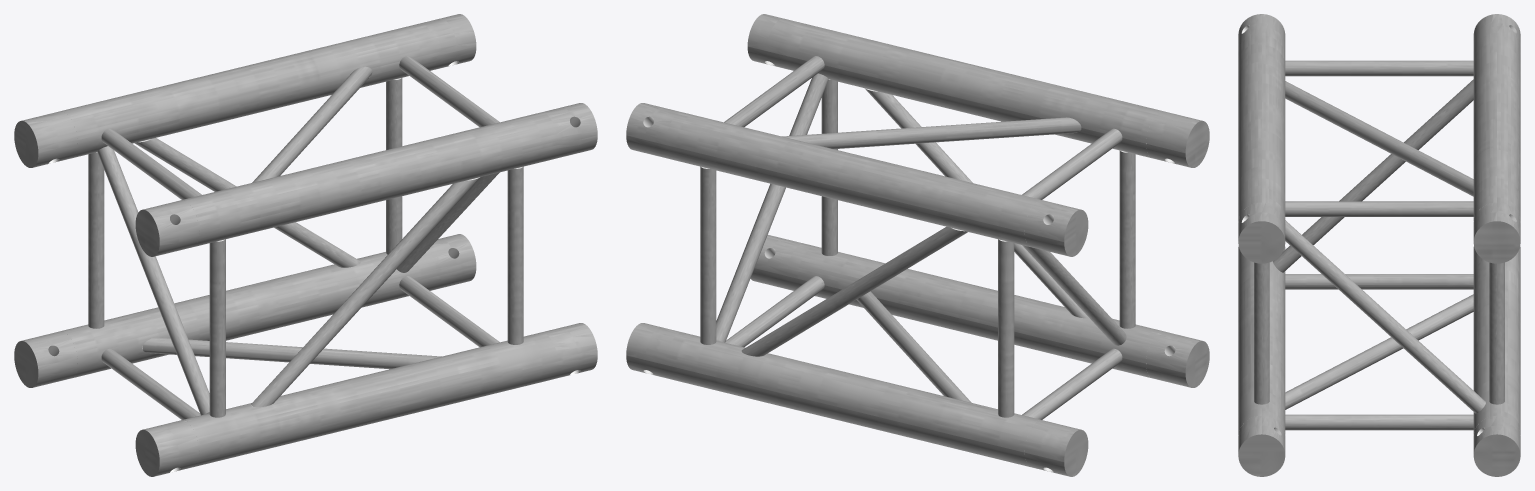
File: Milos_M290V_500_Quattro_Truss_section-6dad3fc4.glb
3 views of the same model, side by side, from view 1: azimuth 30°, elevation 25°; view 2: azimuth 150°, elevation 25°; view 3: azimuth 270°, elevation 25° (orthographic). The views are drawn at different scales.
Parts seen in each view (by area): view 1: Geom3D (×2); view 2: Geom3D (×2); view 3: Geom3D.
Part boxes in pixels (x1,y1,x2,y2): Geom3D (×2): (14,14,597,476); Geom3D (×2): (626,14,1209,476); Geom3D: (1238,14,1520,476).
Size of the model in its own units: 0.5 by 0.288 by 0.288.
Materials: 2 (1 with a texture image).
